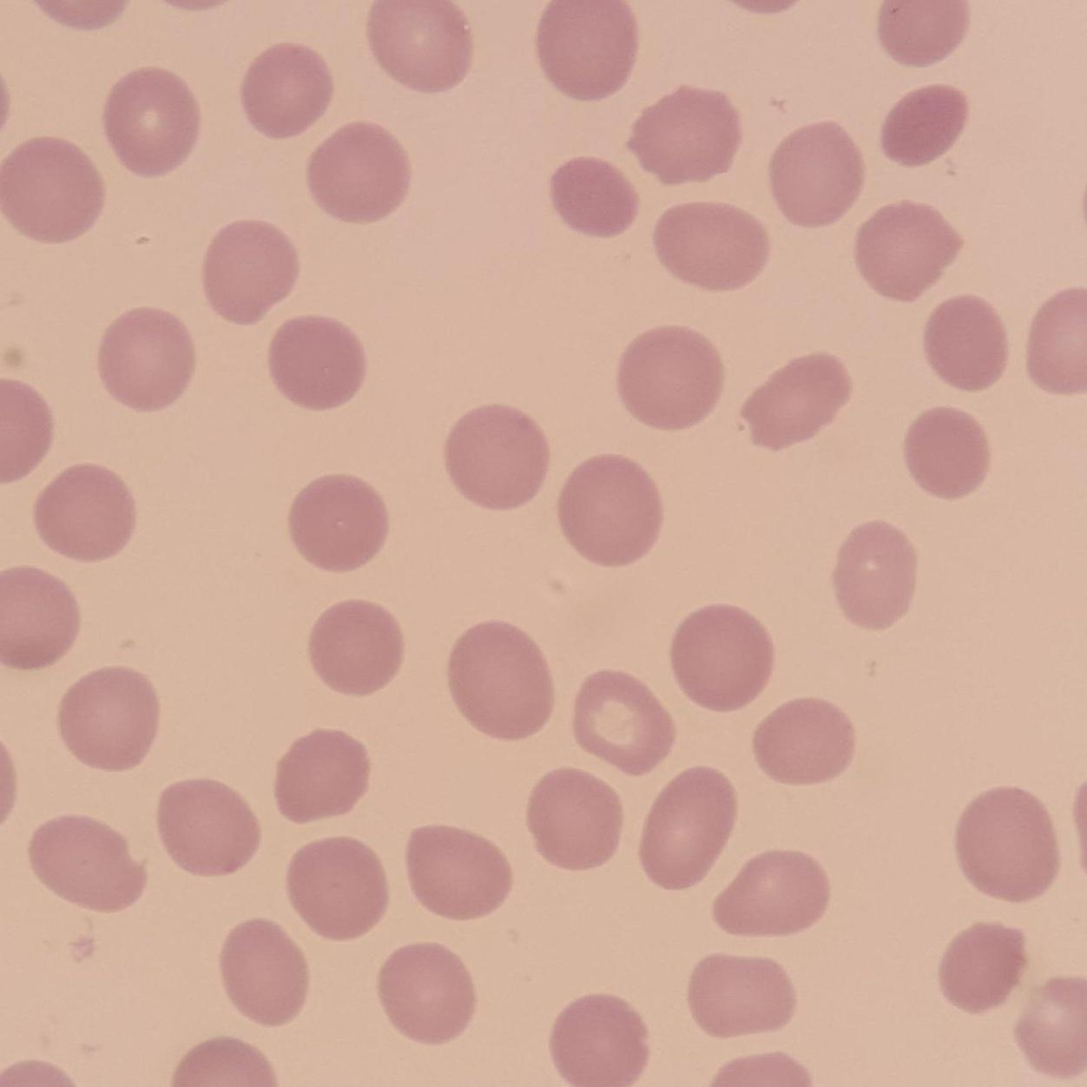Uninfected: (445, 621, 554, 738), (953, 787, 1056, 904), (27, 814, 146, 914), (639, 767, 736, 887), (557, 454, 661, 565), (443, 404, 550, 508), (616, 325, 723, 428), (2, 136, 105, 243), (739, 352, 851, 450), (627, 86, 740, 183), (669, 604, 771, 711), (56, 667, 159, 771), (651, 203, 771, 291), (286, 838, 390, 939), (155, 778, 260, 878), (306, 123, 409, 224), (96, 306, 196, 410), (104, 68, 201, 175), (35, 462, 137, 563), (854, 201, 958, 300), (376, 942, 476, 1044), (572, 671, 671, 774), (288, 473, 390, 572), (405, 824, 510, 920), (524, 770, 622, 872), (712, 850, 828, 936), (768, 122, 864, 224), (535, 2, 637, 98), (219, 919, 310, 1025), (202, 221, 299, 320), (268, 314, 366, 410), (274, 728, 372, 824), (367, 1, 471, 91), (307, 600, 404, 696), (833, 520, 919, 628), (548, 995, 648, 1085), (688, 954, 795, 1038), (752, 697, 854, 785), (240, 44, 333, 137), (922, 293, 1008, 392), (904, 406, 991, 500), (0, 568, 79, 670), (938, 924, 1024, 1014), (881, 83, 969, 167), (549, 156, 638, 237), (1015, 980, 1085, 1074), (879, 2, 966, 65)
